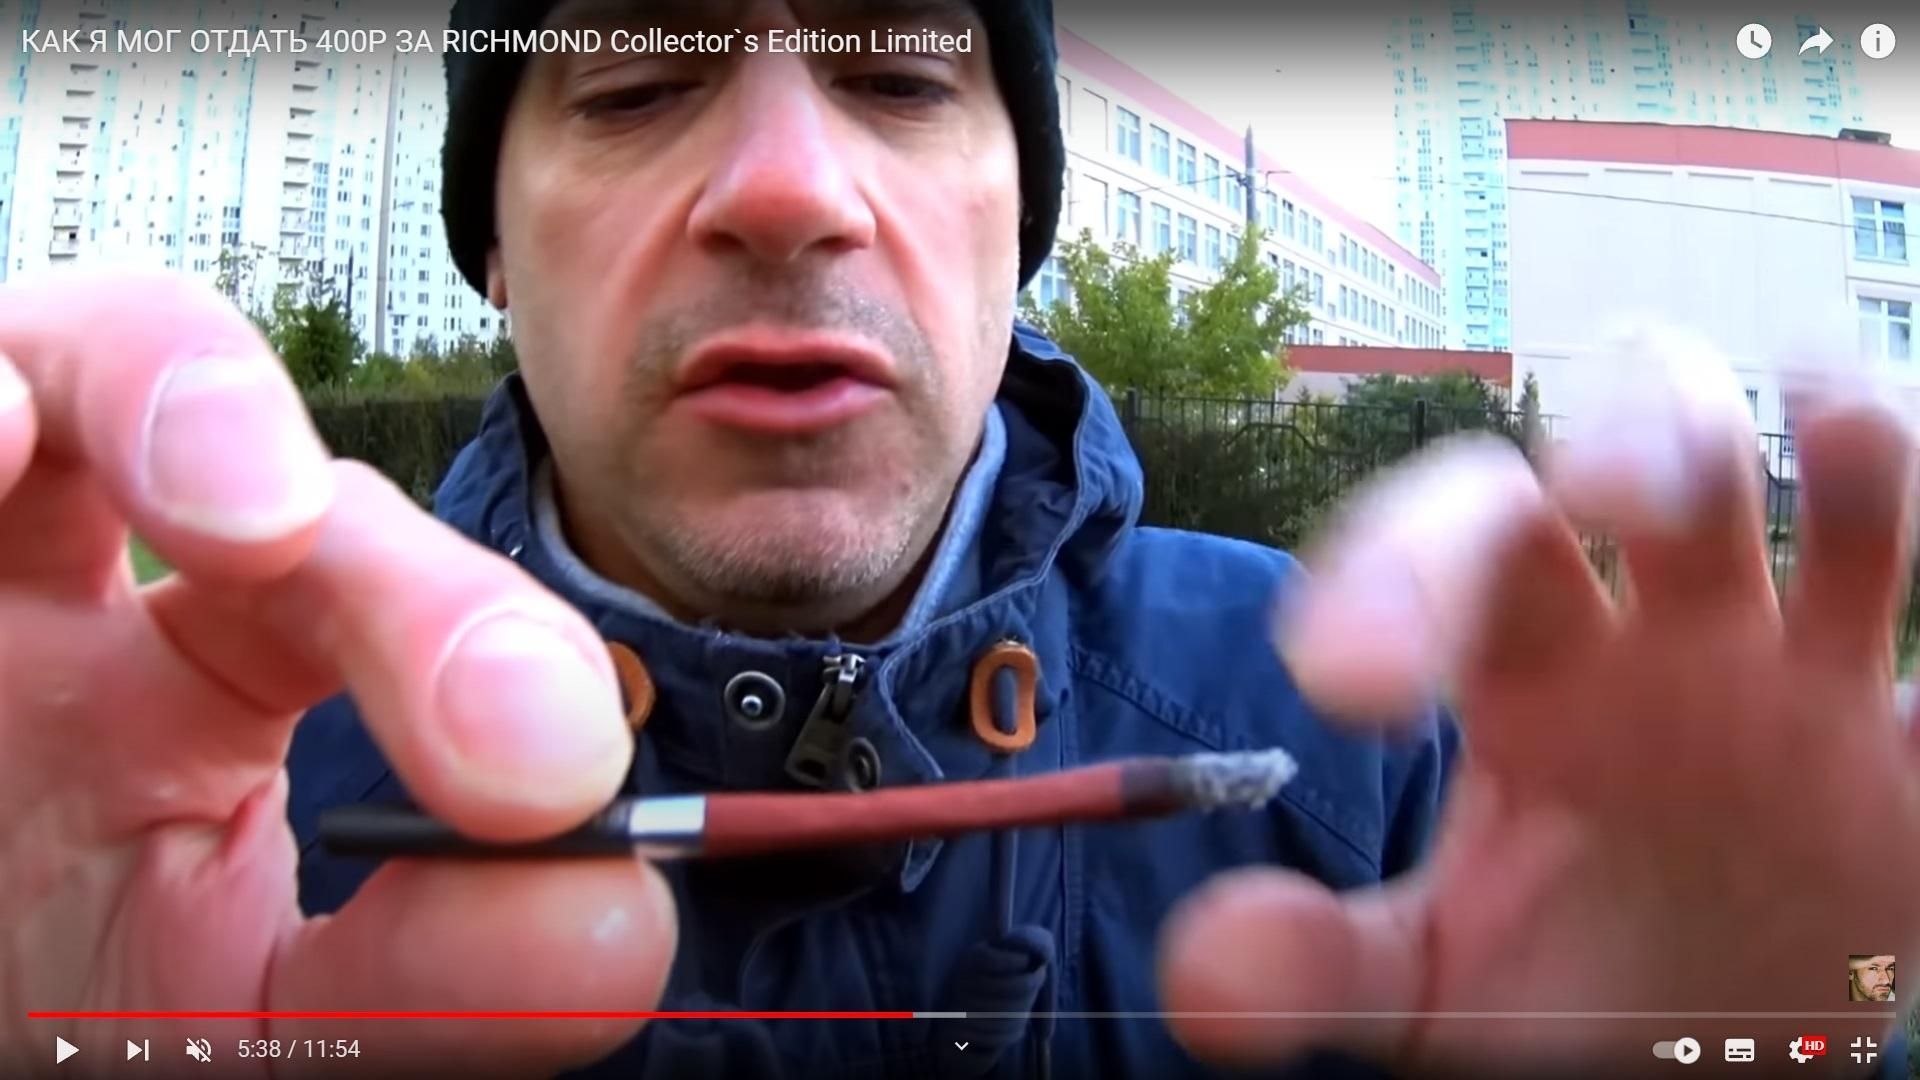cigarette: (314, 741, 1305, 862)
